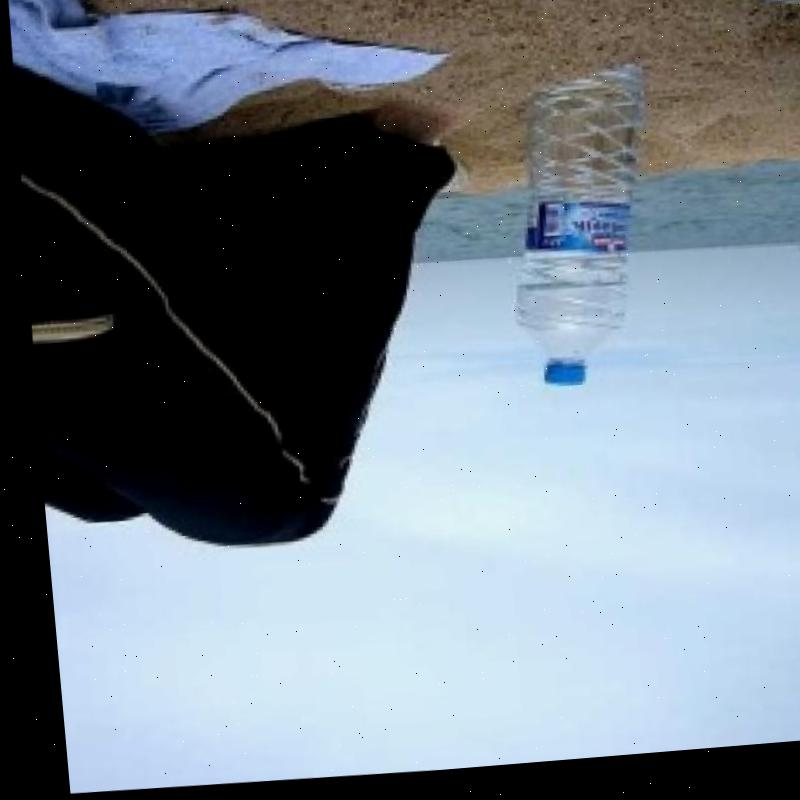botella: (487, 68, 662, 397)
